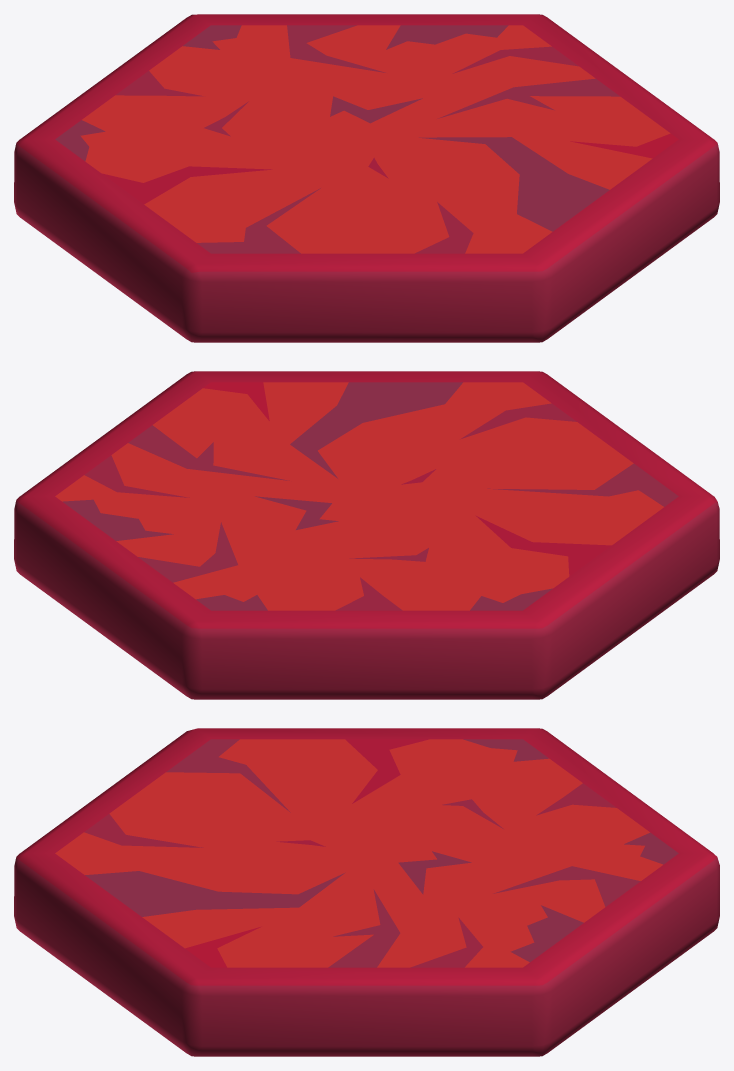
File: Platform red 4.fbx
The picture shows the model from 3 angles, top to bottom: view 1: azimuth 30°, elevation 25°; view 2: azimuth 150°, elevation 25°; view 3: azimuth 270°, elevation 25°; orthographic projection.
Visible parts, largest first — view 1: Platform red 4; view 2: Platform red 4; view 3: Platform red 4.
Part boxes in pixels (left/top/right/bottom): Platform red 4: left=14, top=14, right=719, bottom=342; Platform red 4: left=14, top=371, right=719, bottom=699; Platform red 4: left=14, top=728, right=719, bottom=1056.
Bounding box in the file's own units: 625 × 83.5 × 715.
